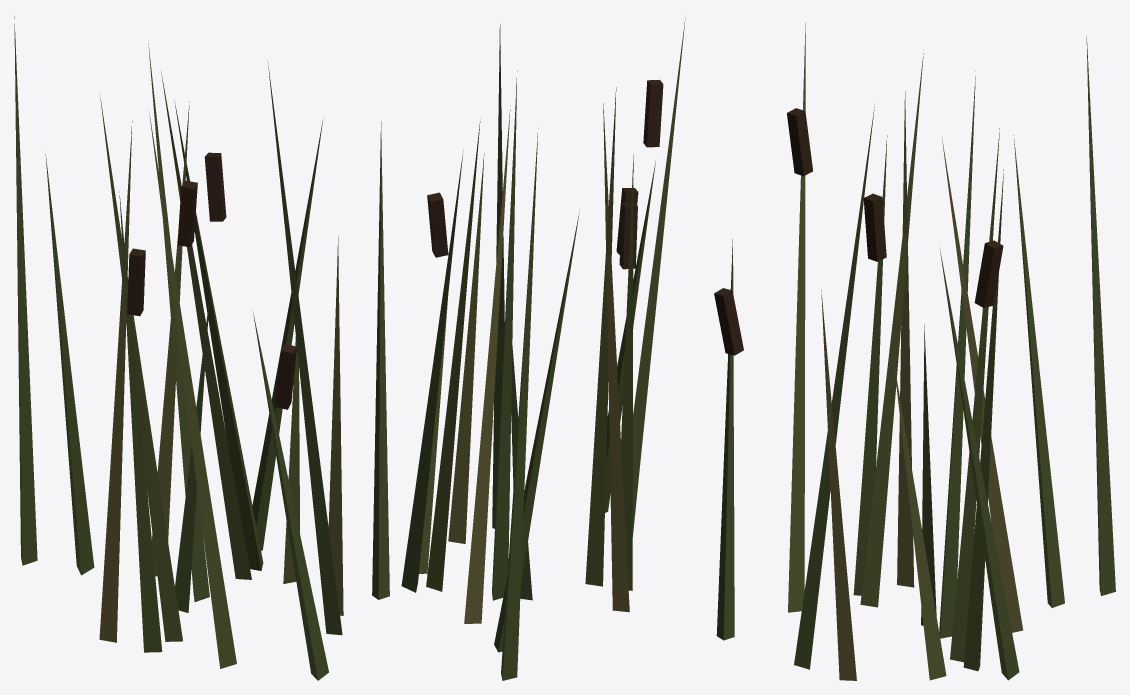
Rendered from reeds.glb.
3 renders of one model, left to right at view 1: azimuth 30°, elevation 25°; view 2: azimuth 150°, elevation 25°; view 3: azimuth 270°, elevation 25°, orthographic.
Parts seen in each view (by area): view 1: reeds; view 2: reeds; view 3: reeds.
Boxes of the visible parts, left/top/right/bottom form: reeds: left=14, top=16, right=343, bottom=680; reeds: left=372, top=17, right=685, bottom=680; reeds: left=714, top=23, right=1115, bottom=680.
Size of the model in its own units: 0.661 by 1.49 by 0.9611.
